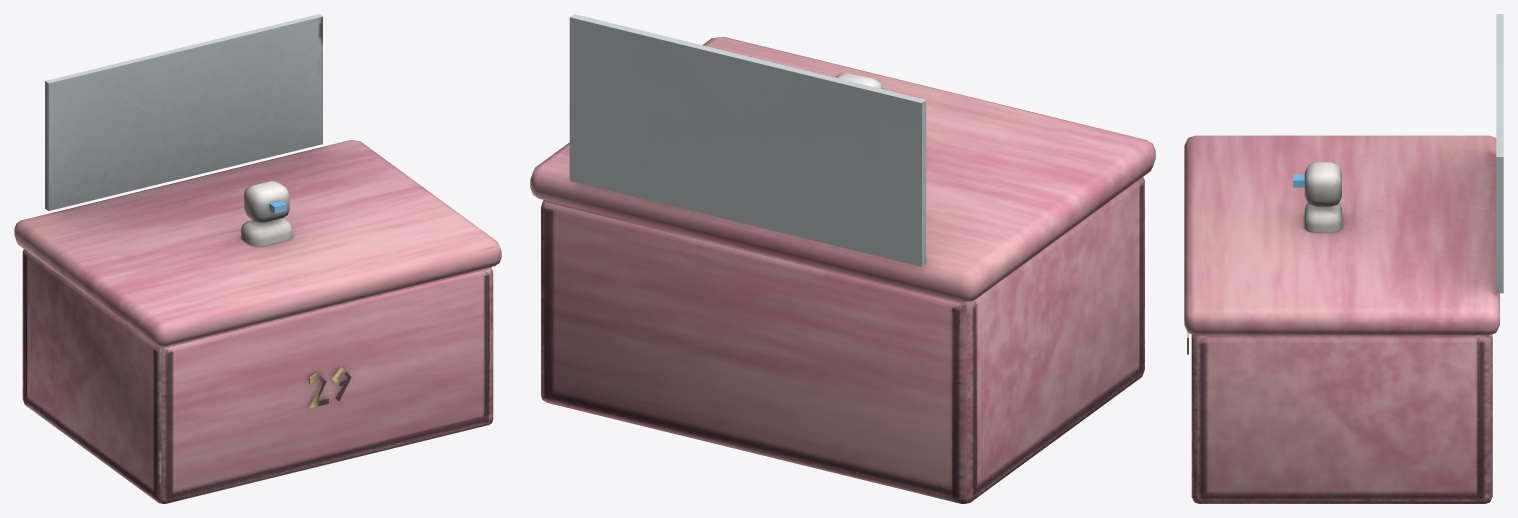
The model's file is music_box.fbx.
The picture shows the model from 3 angles, left to right: view 1: azimuth 30°, elevation 25°; view 2: azimuth 150°, elevation 25°; view 3: azimuth 270°, elevation 25°; orthographic projection. The views are drawn at different scales.
Visible parts, largest first — view 1: Lid, Body, Spin; view 2: Body, Lid; view 3: Lid, Body, Spin.
Boxes of the visible parts, <box> form: Lid: <box>14,14,501,346</box>; Body: <box>22,249,493,503</box>; Spin: <box>241,181,292,246</box>; Body: <box>541,176,1144,503</box>; Lid: <box>530,14,1155,301</box>; Lid: <box>1184,14,1503,335</box>; Body: <box>1187,331,1492,503</box>; Spin: <box>1293,162,1341,232</box>.
Bounding box in the file's own units: 1.14 × 0.98 × 0.85.
1 material, 1 textured.
